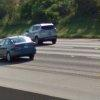Car: (2, 23, 39, 70)
